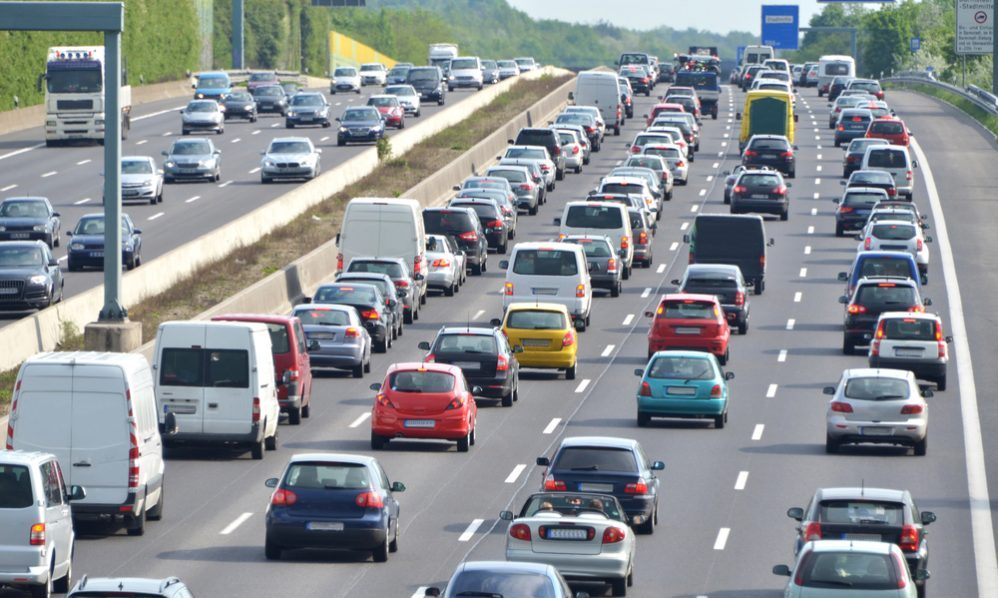car: (262, 450, 399, 563), (504, 490, 635, 592), (538, 436, 662, 521), (369, 361, 477, 450), (824, 368, 931, 457), (496, 239, 594, 332), (420, 324, 520, 406), (636, 348, 731, 430), (837, 274, 925, 356), (685, 212, 768, 294), (496, 303, 580, 377), (867, 310, 947, 386), (669, 261, 750, 333), (644, 294, 729, 361), (1, 237, 63, 312), (729, 169, 791, 224), (257, 136, 323, 183), (160, 136, 222, 183), (118, 154, 164, 204), (335, 103, 386, 147), (179, 97, 225, 138)
